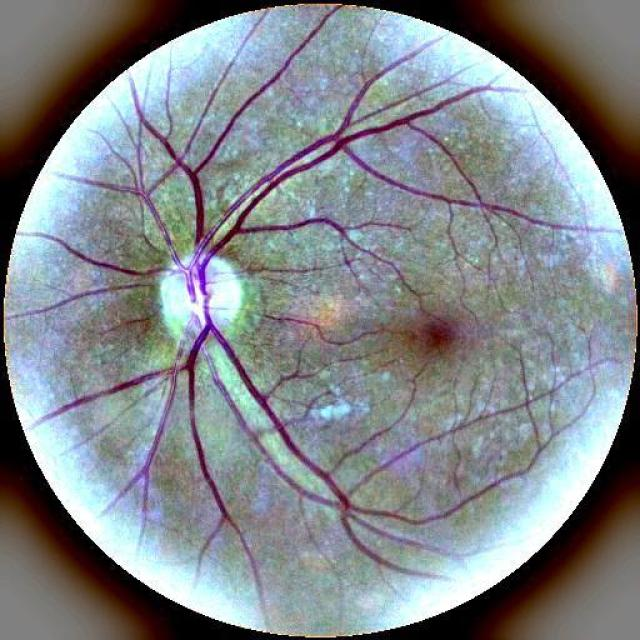Macula: (428, 319, 454, 345)
Nerves: (41, 88, 498, 605)
Optic Disk: (158, 252, 248, 341)
